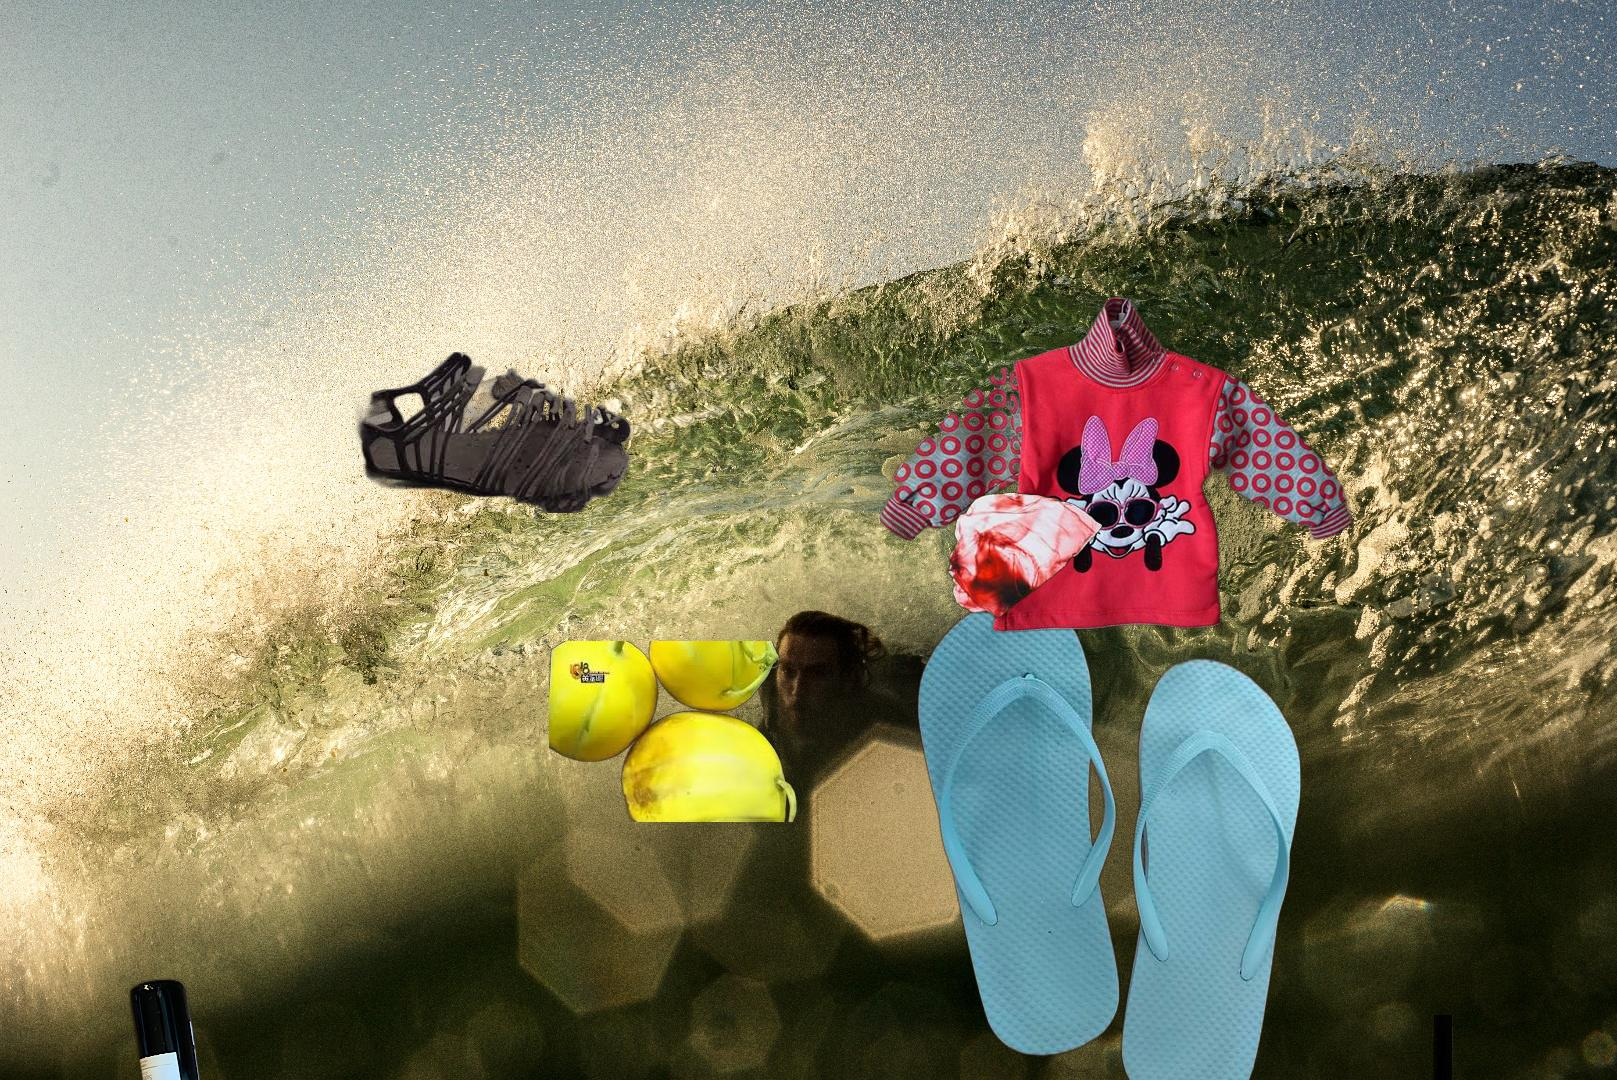biological: (549, 641, 804, 822)
clothes: (880, 287, 1360, 636)
glass: (124, 973, 376, 1080)
paper-bag: (1262, 1015, 1524, 1080)
plastic-bag: (943, 491, 1102, 622)
shoes: (915, 592, 1304, 1080), (339, 352, 639, 513)
